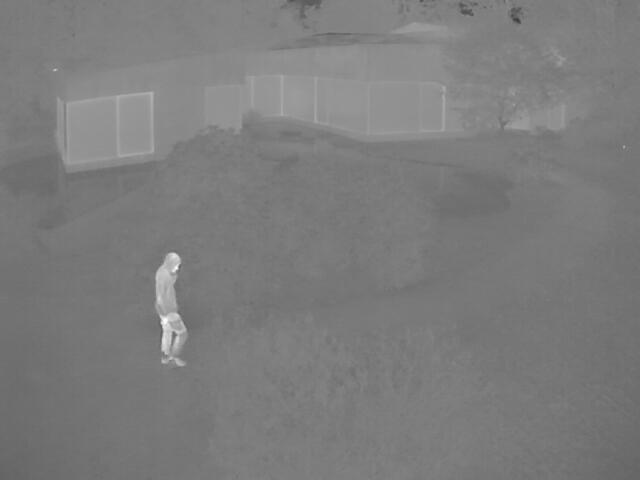person: (153, 251, 186, 366)
